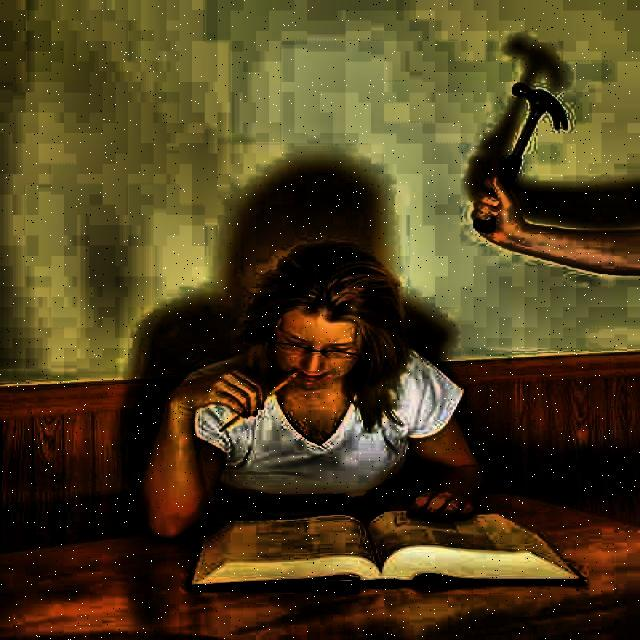hammer: (474, 78, 572, 232)
